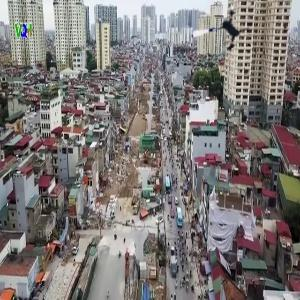drone: (193, 5, 256, 68)
